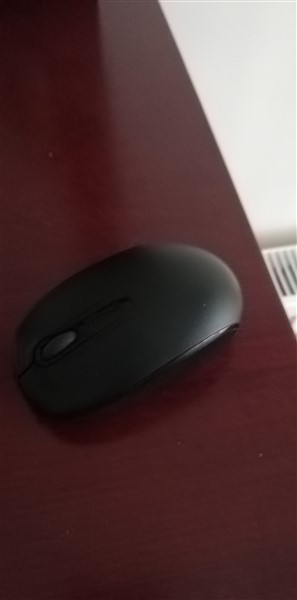mouse: (5, 237, 258, 430)
